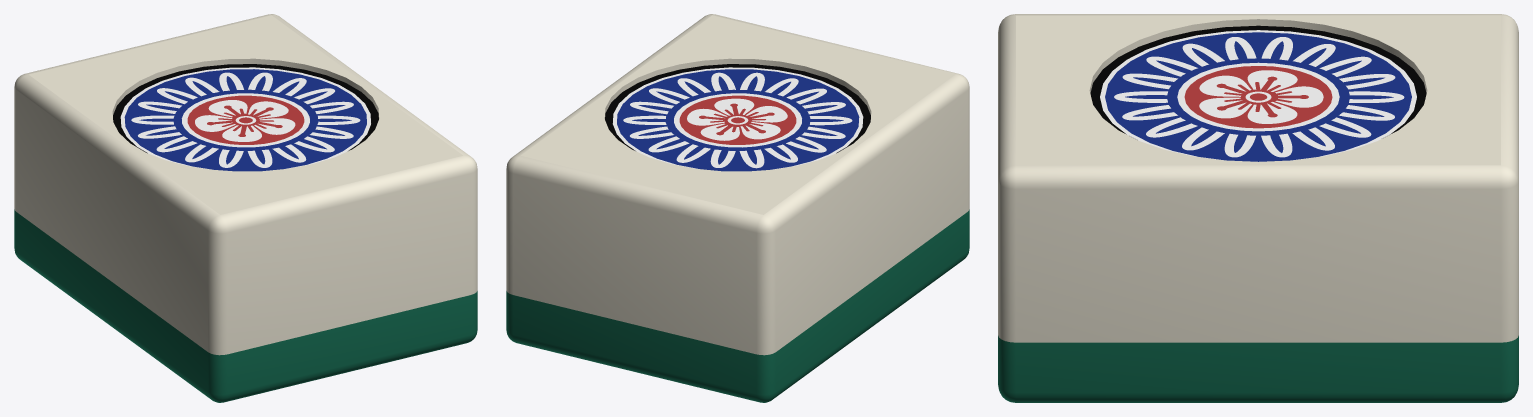
Rendered from Pin1.glb.
The picture shows the model from 3 angles, left to right: view 1: azimuth 30°, elevation 25°; view 2: azimuth 150°, elevation 25°; view 3: azimuth 270°, elevation 25°; orthographic projection. The views are drawn at different scales.
Parts seen in each view (by area): view 1: Pin1_body, Pin1_inset; view 2: Pin1_body, Pin1_inset; view 3: Pin1_body, Pin1_inset.
Boxes of the visible parts, x1=… form: Pin1_body: x1=14, y1=14, x2=477, y2=402; Pin1_inset: x1=113, y1=64, x2=378, y2=171; Pin1_body: x1=506, y1=14, x2=969, y2=402; Pin1_inset: x1=605, y1=64, x2=870, y2=171; Pin1_body: x1=998, y1=14, x2=1518, y2=402; Pin1_inset: x1=1090, y1=25, x2=1426, y2=161.
Bounding box in the file's own units: 0.024 × 0.016 × 0.032.
